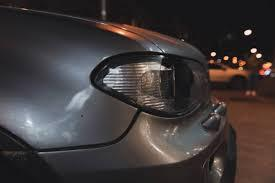Headlight-Damage: (86, 45, 212, 123)
